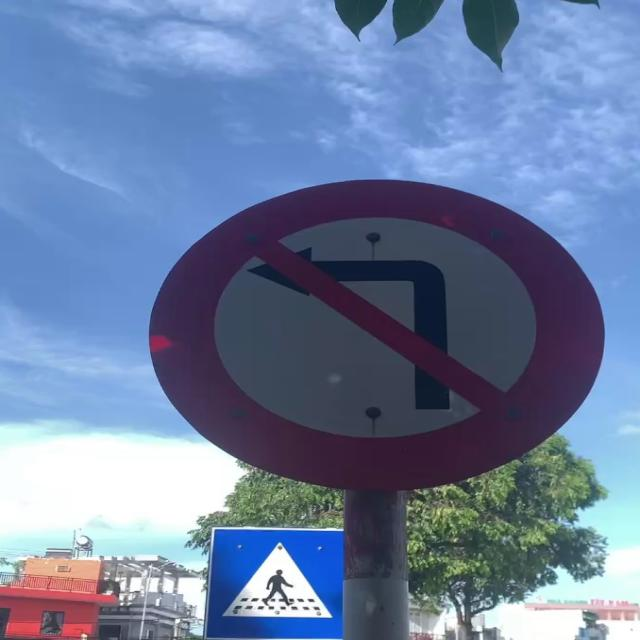Cam_Re_Trai: (148, 173, 608, 500)
